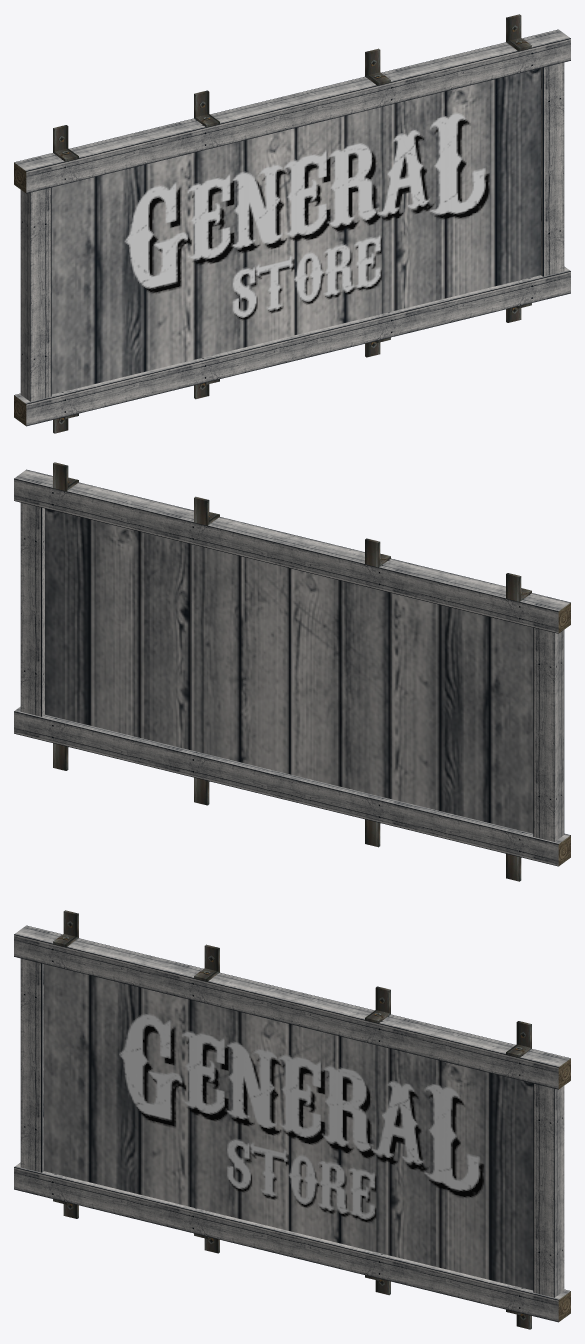
The model's file is signs-09.fbx.
3 renders of one model, top to bottom at view 1: azimuth 30°, elevation 25°; view 2: azimuth 150°, elevation 25°; view 3: azimuth 330°, elevation 25°, orthographic.
Parts seen in each view (by area): view 1: Cube.145; view 2: Cube.145; view 3: Cube.145.
Part boxes in pixels (box(x1,y1,x2,y2)): Cube.145: box(14, 14, 570, 433); Cube.145: box(14, 462, 570, 881); Cube.145: box(14, 910, 570, 1329).
Bounding box in the file's own units: 2.45 × 1.31 × 0.096.
